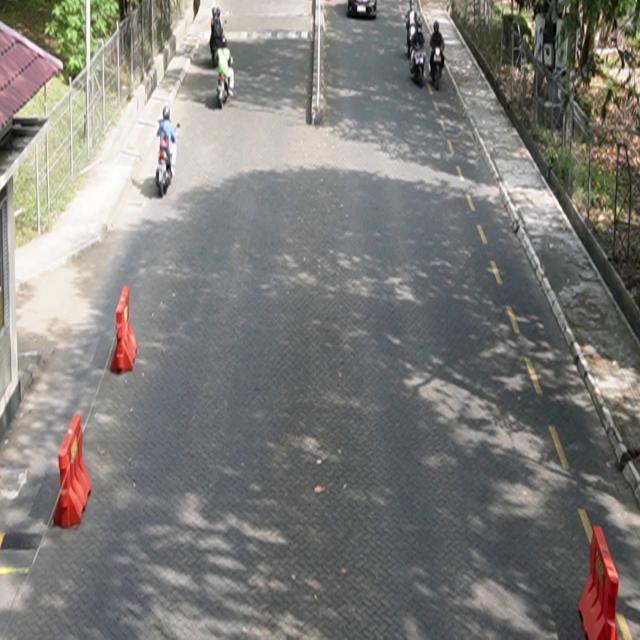car: (348, 1, 378, 19)
